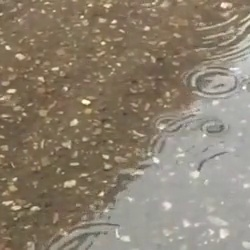drop: (44, 223, 125, 248), (187, 65, 239, 99), (153, 114, 182, 135), (201, 120, 226, 136), (1, 94, 20, 109)
